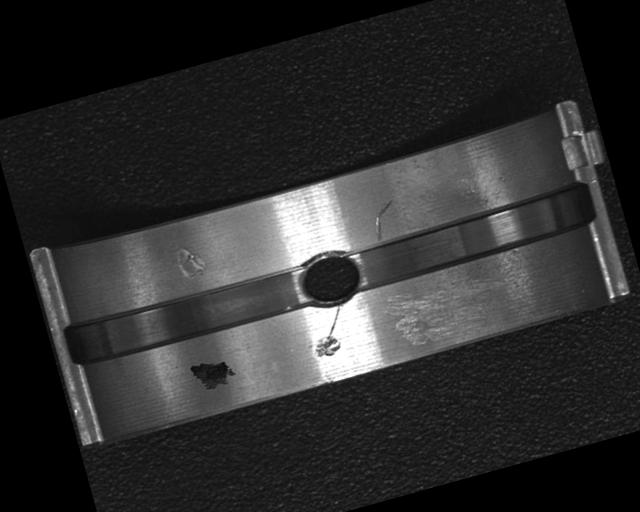blot: (188, 354, 237, 393)
bruise: (170, 238, 210, 283), (310, 331, 345, 360)
gap: (350, 179, 598, 292), (63, 259, 310, 372)
hole: (292, 242, 369, 317)
nick: (367, 199, 402, 241), (318, 303, 350, 340)
scratch: (386, 262, 516, 349)
